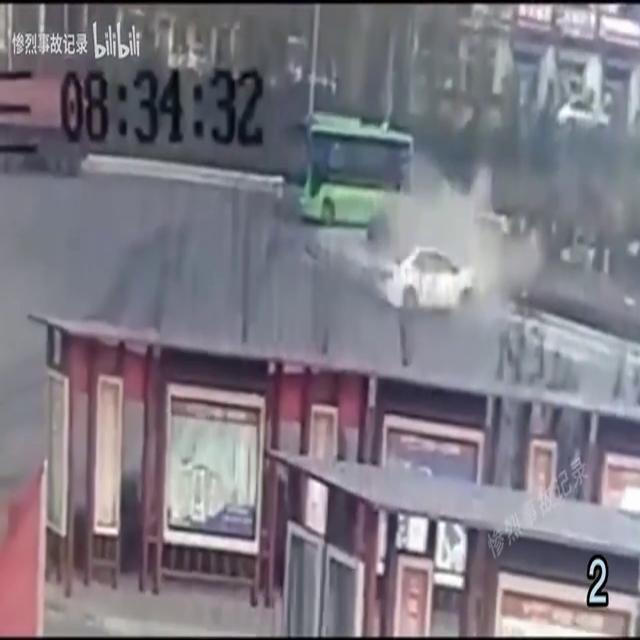accident: (372, 199, 514, 319)
